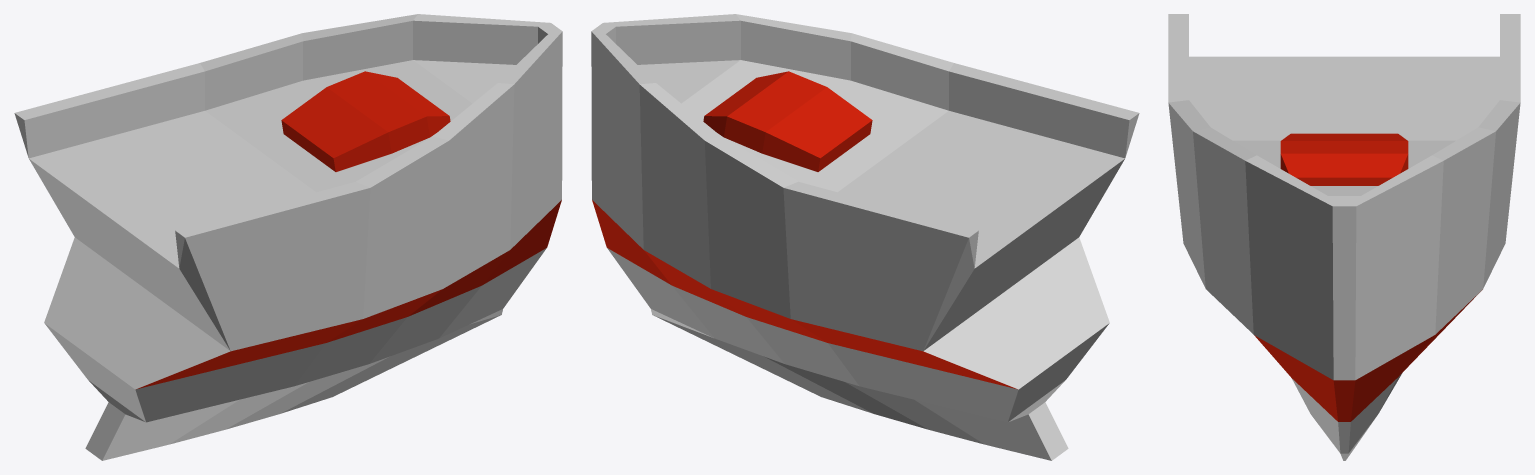
The model's file is BoatFront.fbx.
3 renders of one model, left to right at view 1: azimuth 30°, elevation 25°; view 2: azimuth 150°, elevation 25°; view 3: azimuth 270°, elevation 25°, orthographic. The views are drawn at different scales.
Parts seen in each view (by area): view 1: Cube.001; view 2: Cube.001; view 3: Cube.001.
Boxes of the visible parts, <box> form: Cube.001: <box>14,14,562,460</box>; Cube.001: <box>591,14,1139,460</box>; Cube.001: <box>1168,14,1520,460</box>.
Size of the model in its own units: 736 by 466 by 474.
